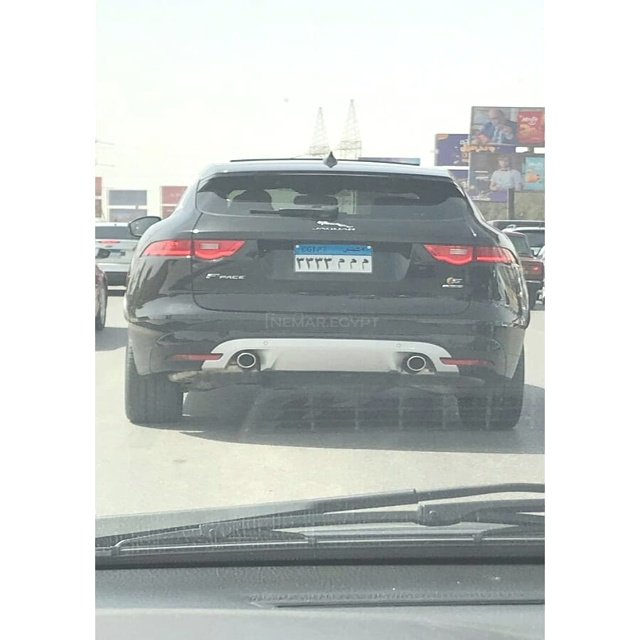License Plate: (291, 241, 375, 276)
